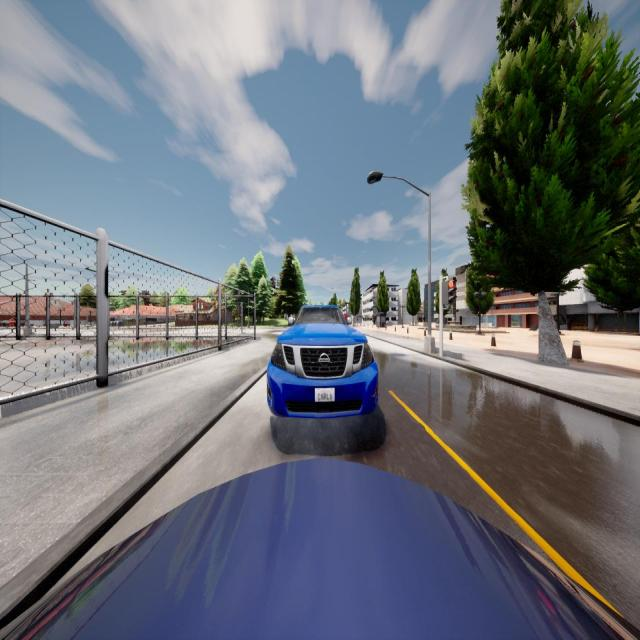Vehicle: (0, 458, 640, 640), (266, 306, 378, 418)
traffic_light: (442, 281, 456, 305)
